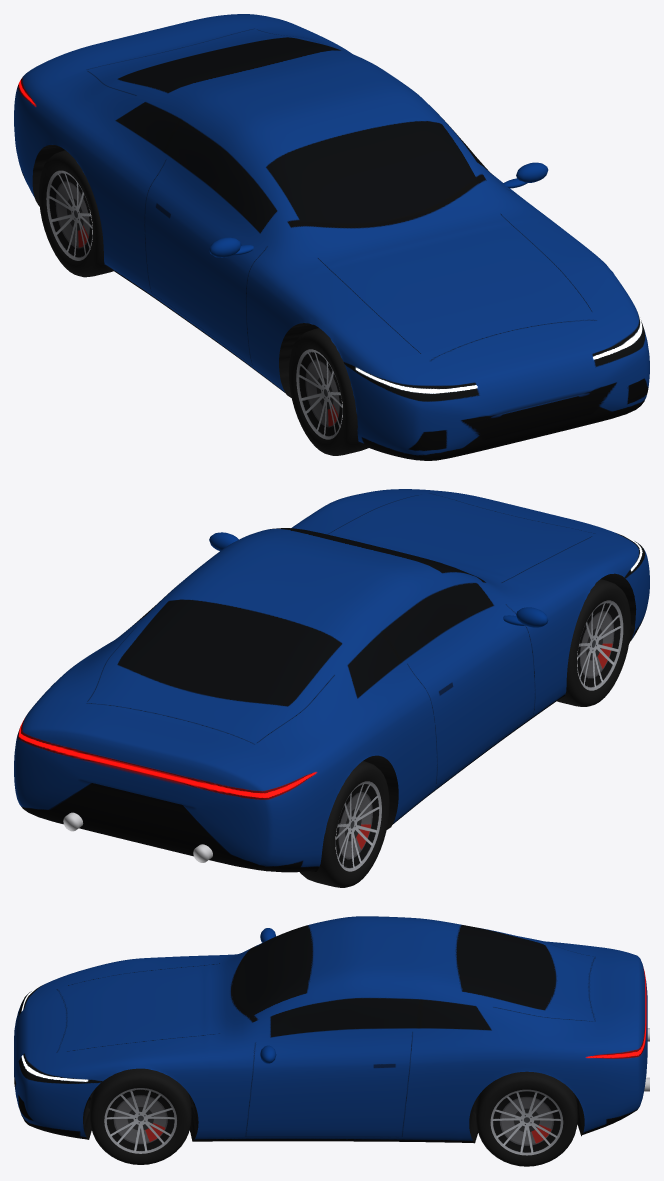
The model's file is starter_coupe.glb.
The picture shows the model from 3 angles, top to bottom: view 1: azimuth 30°, elevation 25°; view 2: azimuth 150°, elevation 25°; view 3: azimuth 270°, elevation 25°; orthographic projection. The views are drawn at different scales.
Visible parts, largest first — view 1: Body, Wheel_FR, Wheel_RR; view 2: Body, Wheel_RR, Wheel_FR; view 3: Body, Wheel_FL, Wheel_RL.
Part boxes in pixels (x1=…): Body: x1=14, y1=14, x2=649, y2=460; Wheel_FR: x1=288, y1=328, x2=368, y2=455; Wheel_RR: x1=39, y1=150, x2=113, y2=277; Body: x1=14, y1=489, x2=649, y2=872; Wheel_RR: x1=300, y1=761, x2=389, y2=887; Wheel_FR: x1=557, y1=579, x2=630, y2=706; Body: x1=14, y1=916, x2=649, y2=1143; Wheel_FL: x1=90, y1=1068, x2=191, y2=1164; Wheel_RL: x1=476, y1=1071, x2=577, y2=1166.
Size of the model in its own units: 2.08 by 1.27 by 4.32.
6 materials, 2 textured.
